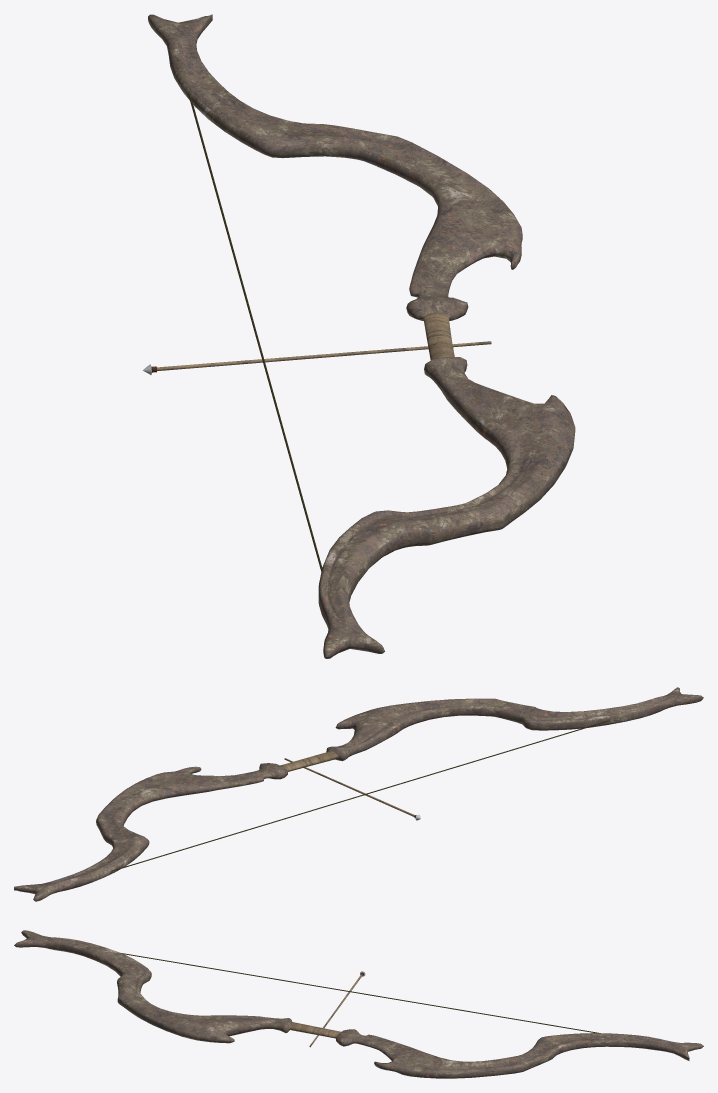
Rendered from arcus-bow.glb.
3 renders of one model, top to bottom at view 1: azimuth 30°, elevation 25°; view 2: azimuth 150°, elevation 25°; view 3: azimuth 270°, elevation 25°, orthographic. The views are drawn at different scales.
Visible parts, largest first — view 1: Cube.001, Cylinder.002, Cylinder.003; view 2: Cube.001, Cylinder.003, Cylinder.002; view 3: Cube.001, Cylinder.003.
Part boxes in pixels (<box>): Cube.001: <box>148,14,575,658</box>; Cylinder.002: <box>143,341,491,374</box>; Cylinder.003: <box>189,96,322,571</box>; Cube.001: <box>14,687,703,901</box>; Cylinder.003: <box>111,720,609,871</box>; Cylinder.002: <box>284,758,420,820</box>; Cube.001: <box>14,930,703,1078</box>; Cylinder.003: <box>122,953,600,1033</box>.
Bounding box in the file's own units: 2.92 × 0.2079 × 5.87.
Materials: 6 (6 with a texture image).
